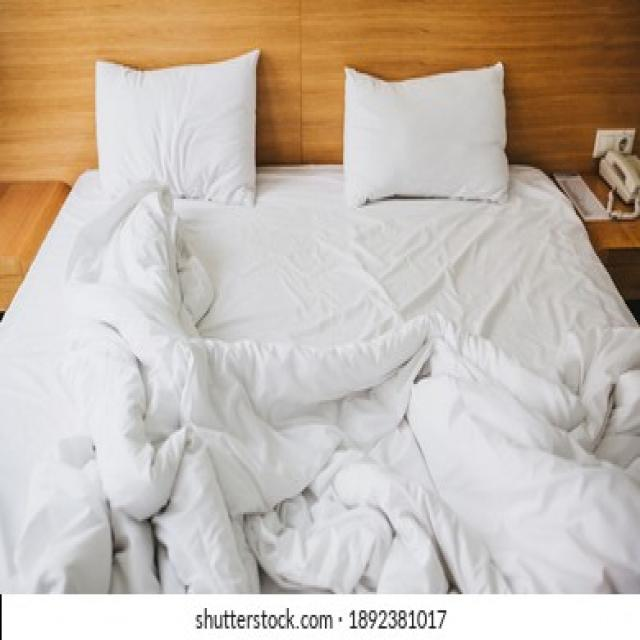bed: (13, 53, 640, 596)
